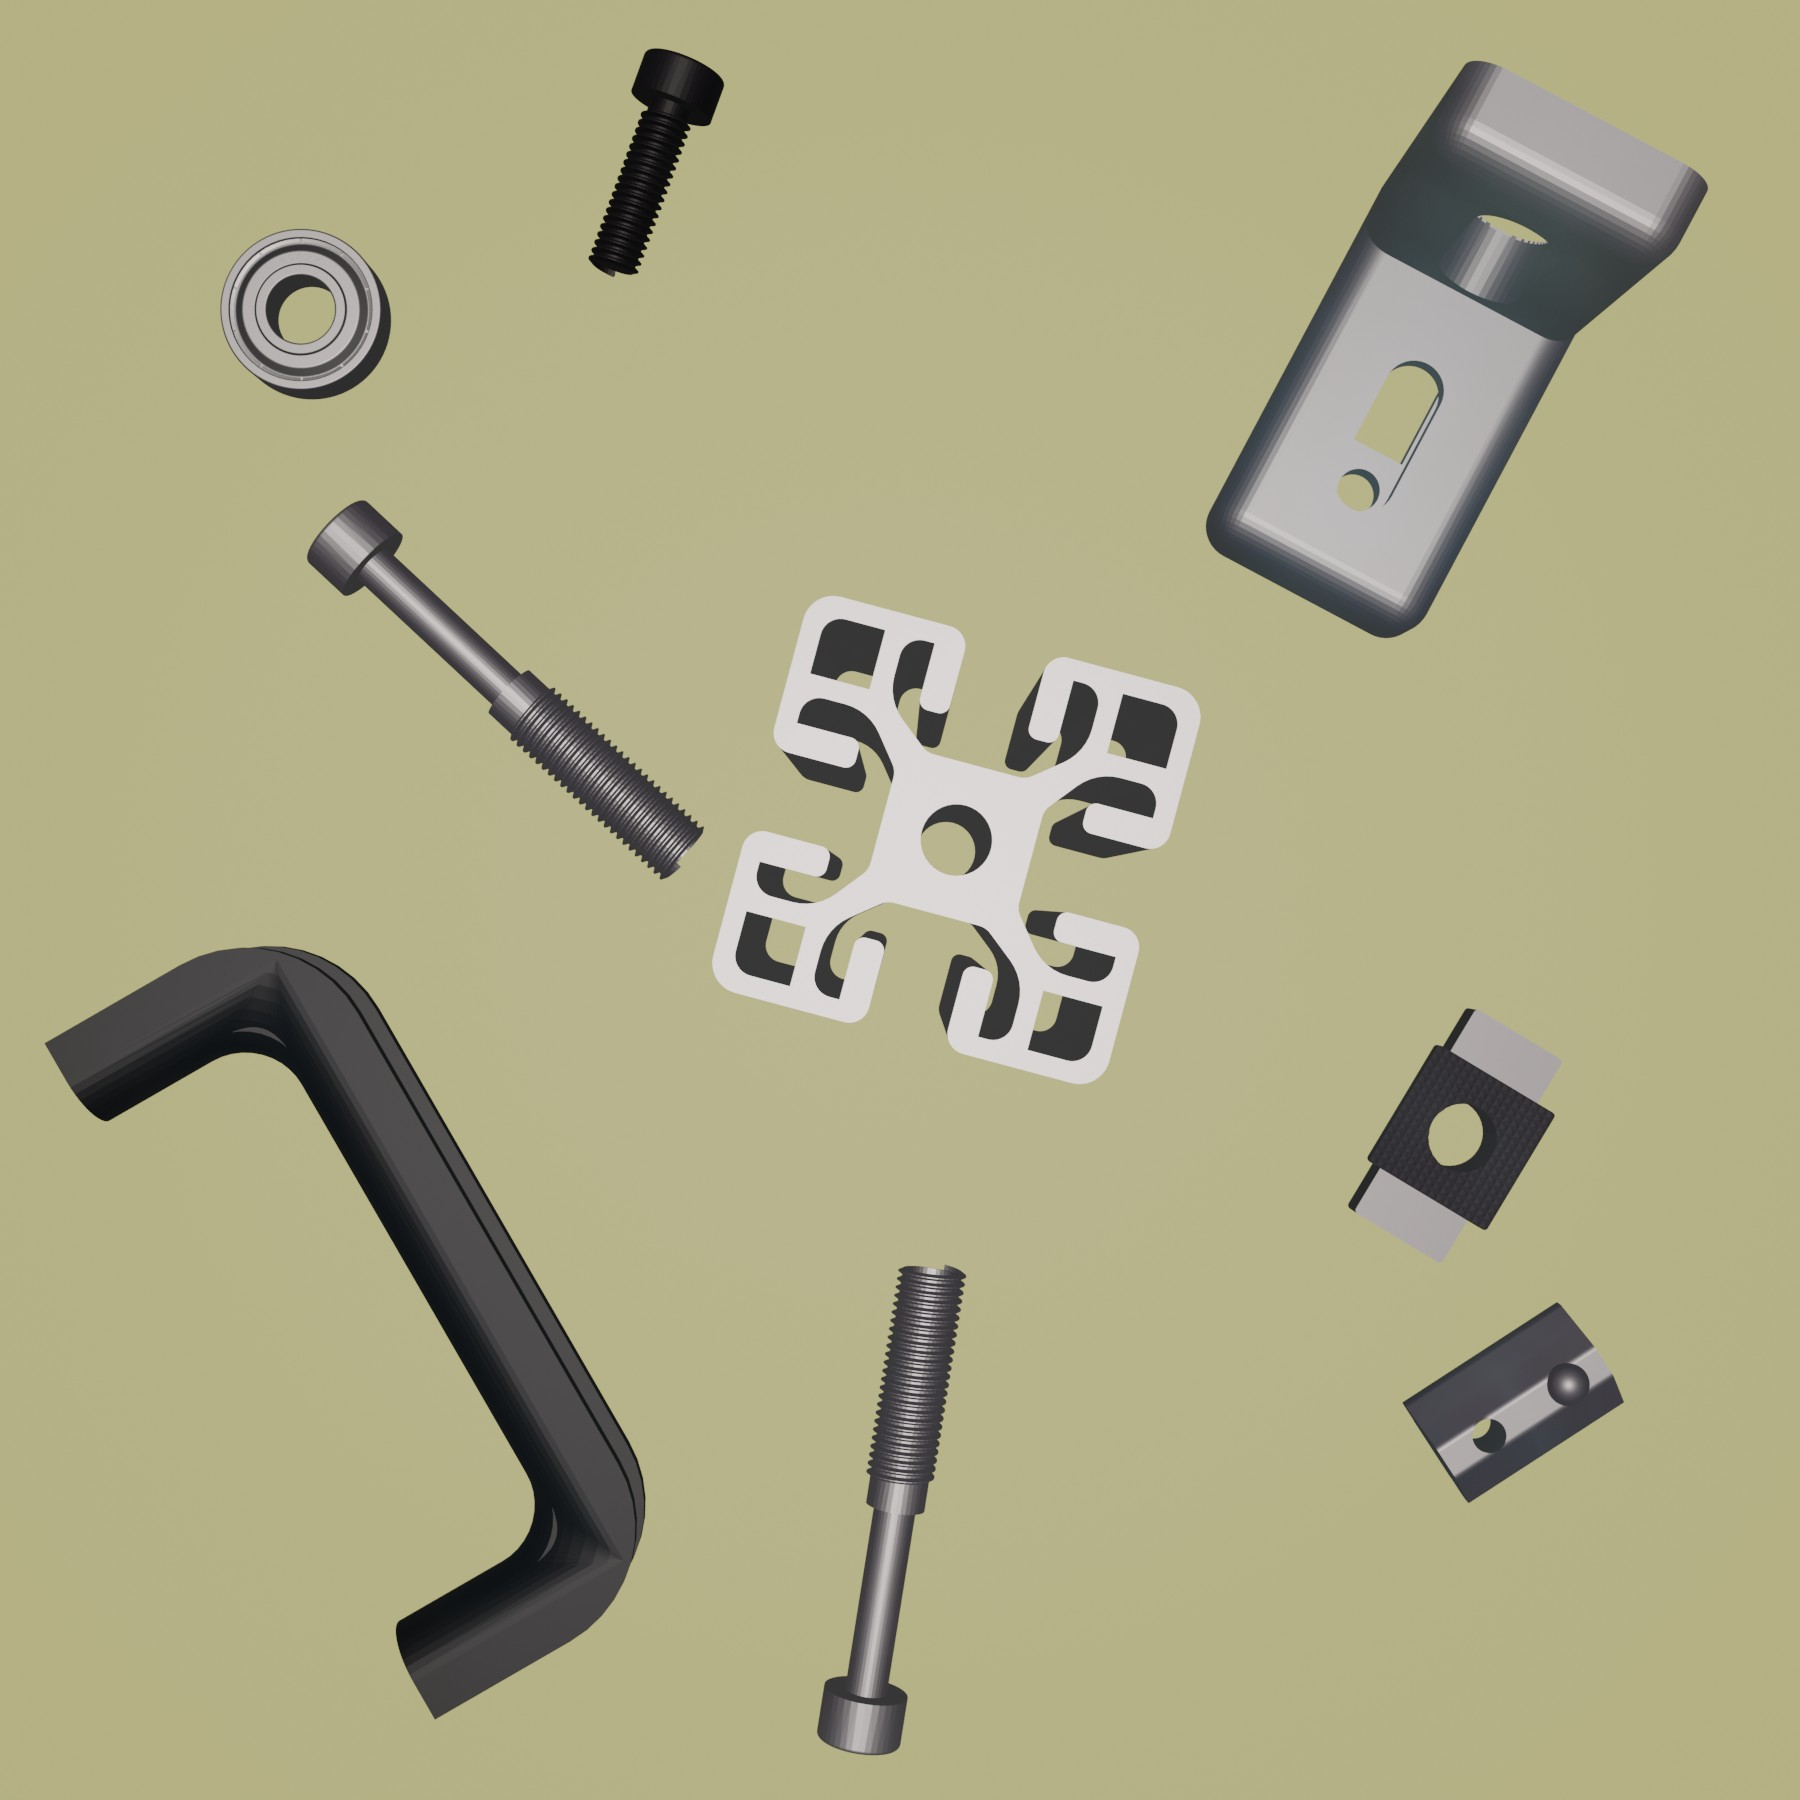Aluminium Extension: (709, 592, 1203, 1090)
Ball Bearing: (216, 224, 392, 401)
Multiwinkel: (1203, 58, 1708, 641)
Pull Handle: (41, 941, 648, 1719)
Shoulder Socket Head Cap Screw: (303, 498, 705, 882), (814, 1261, 968, 1759)
Socket Head Cap Screw: (587, 45, 724, 280)
T Nut Square: (1343, 1005, 1568, 1266)
T Spring Nut: (1401, 1296, 1627, 1507)
